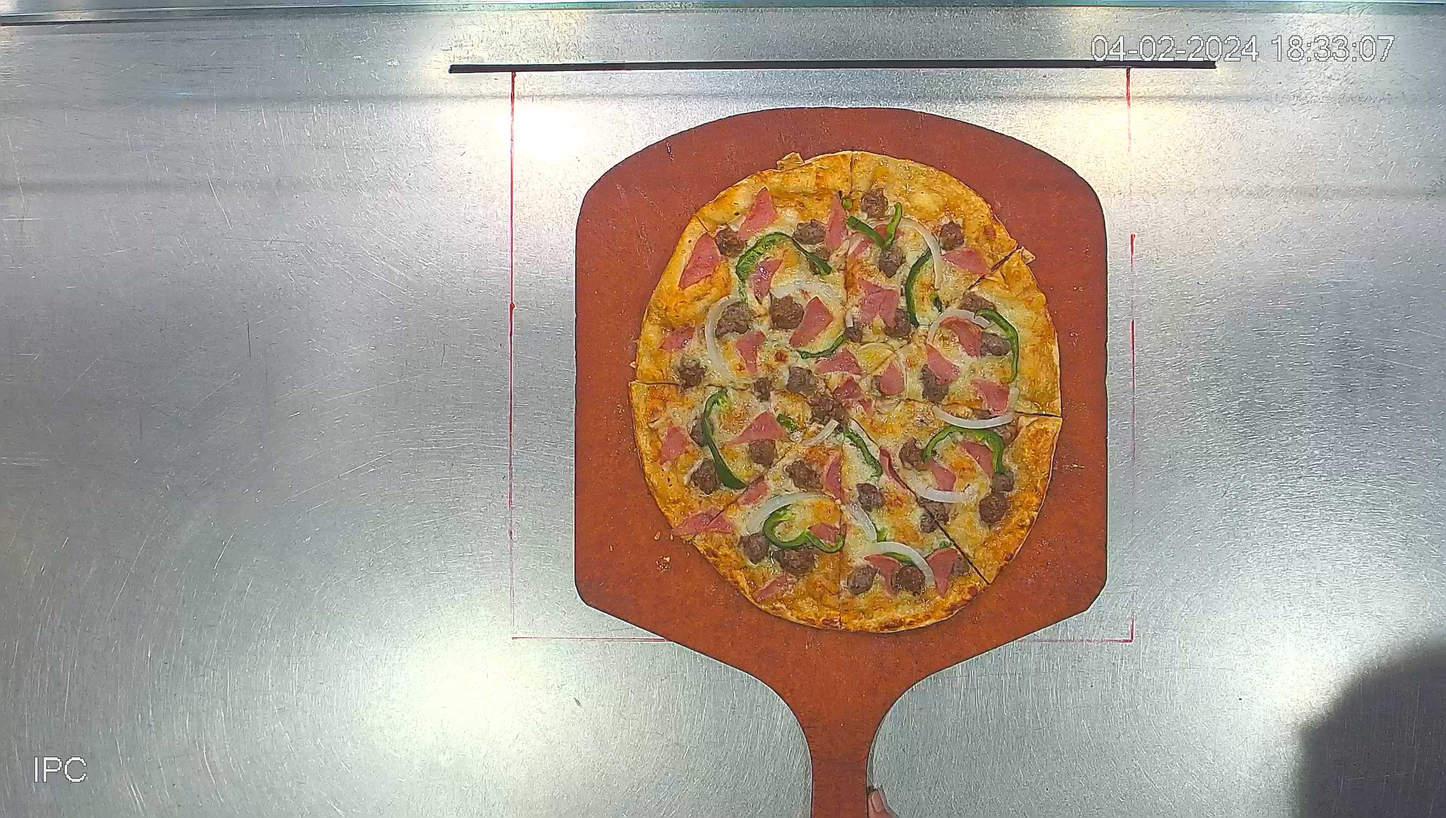hawaiian: (629, 149, 1062, 632)
